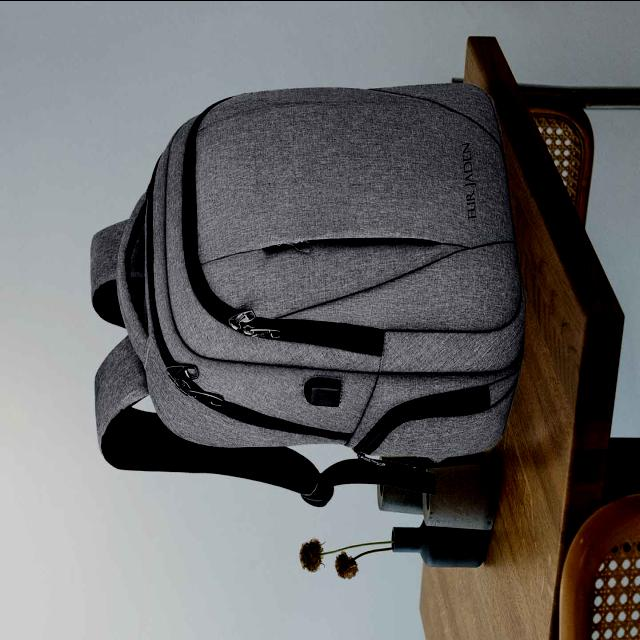backpack: (91, 82, 528, 507)
